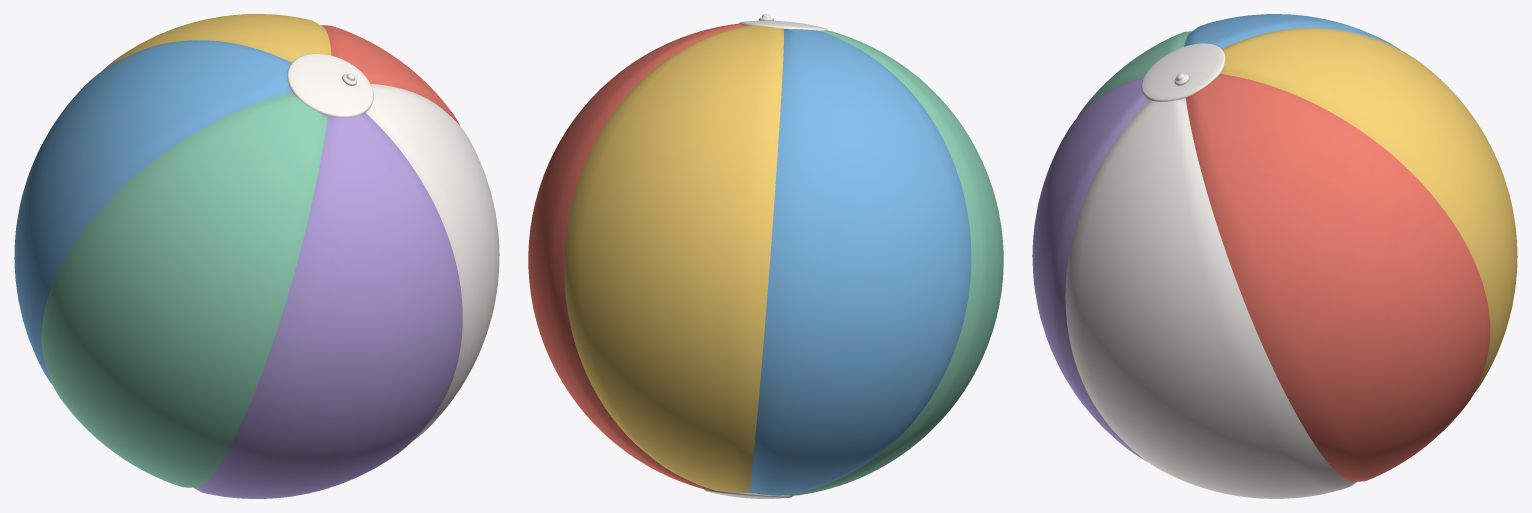
File: beach-ball.glb
The picture shows the model from 3 angles, left to right: view 1: azimuth 30°, elevation 25°; view 2: azimuth 150°, elevation 25°; view 3: azimuth 270°, elevation 25°; orthographic projection. The views are drawn at different scales.
Visible parts, largest first — view 1: beach-ball_body; view 2: beach-ball_body; view 3: beach-ball_body.
Part boxes in pixels (box(x1,y1,x2,y2)): beach-ball_body: box(14, 14, 499, 498); beach-ball_body: box(528, 14, 1003, 498); beach-ball_body: box(1032, 14, 1517, 498).
Bounding box in the file's own units: 0.3995 × 0.3929 × 0.4.
1 material, 1 textured.
